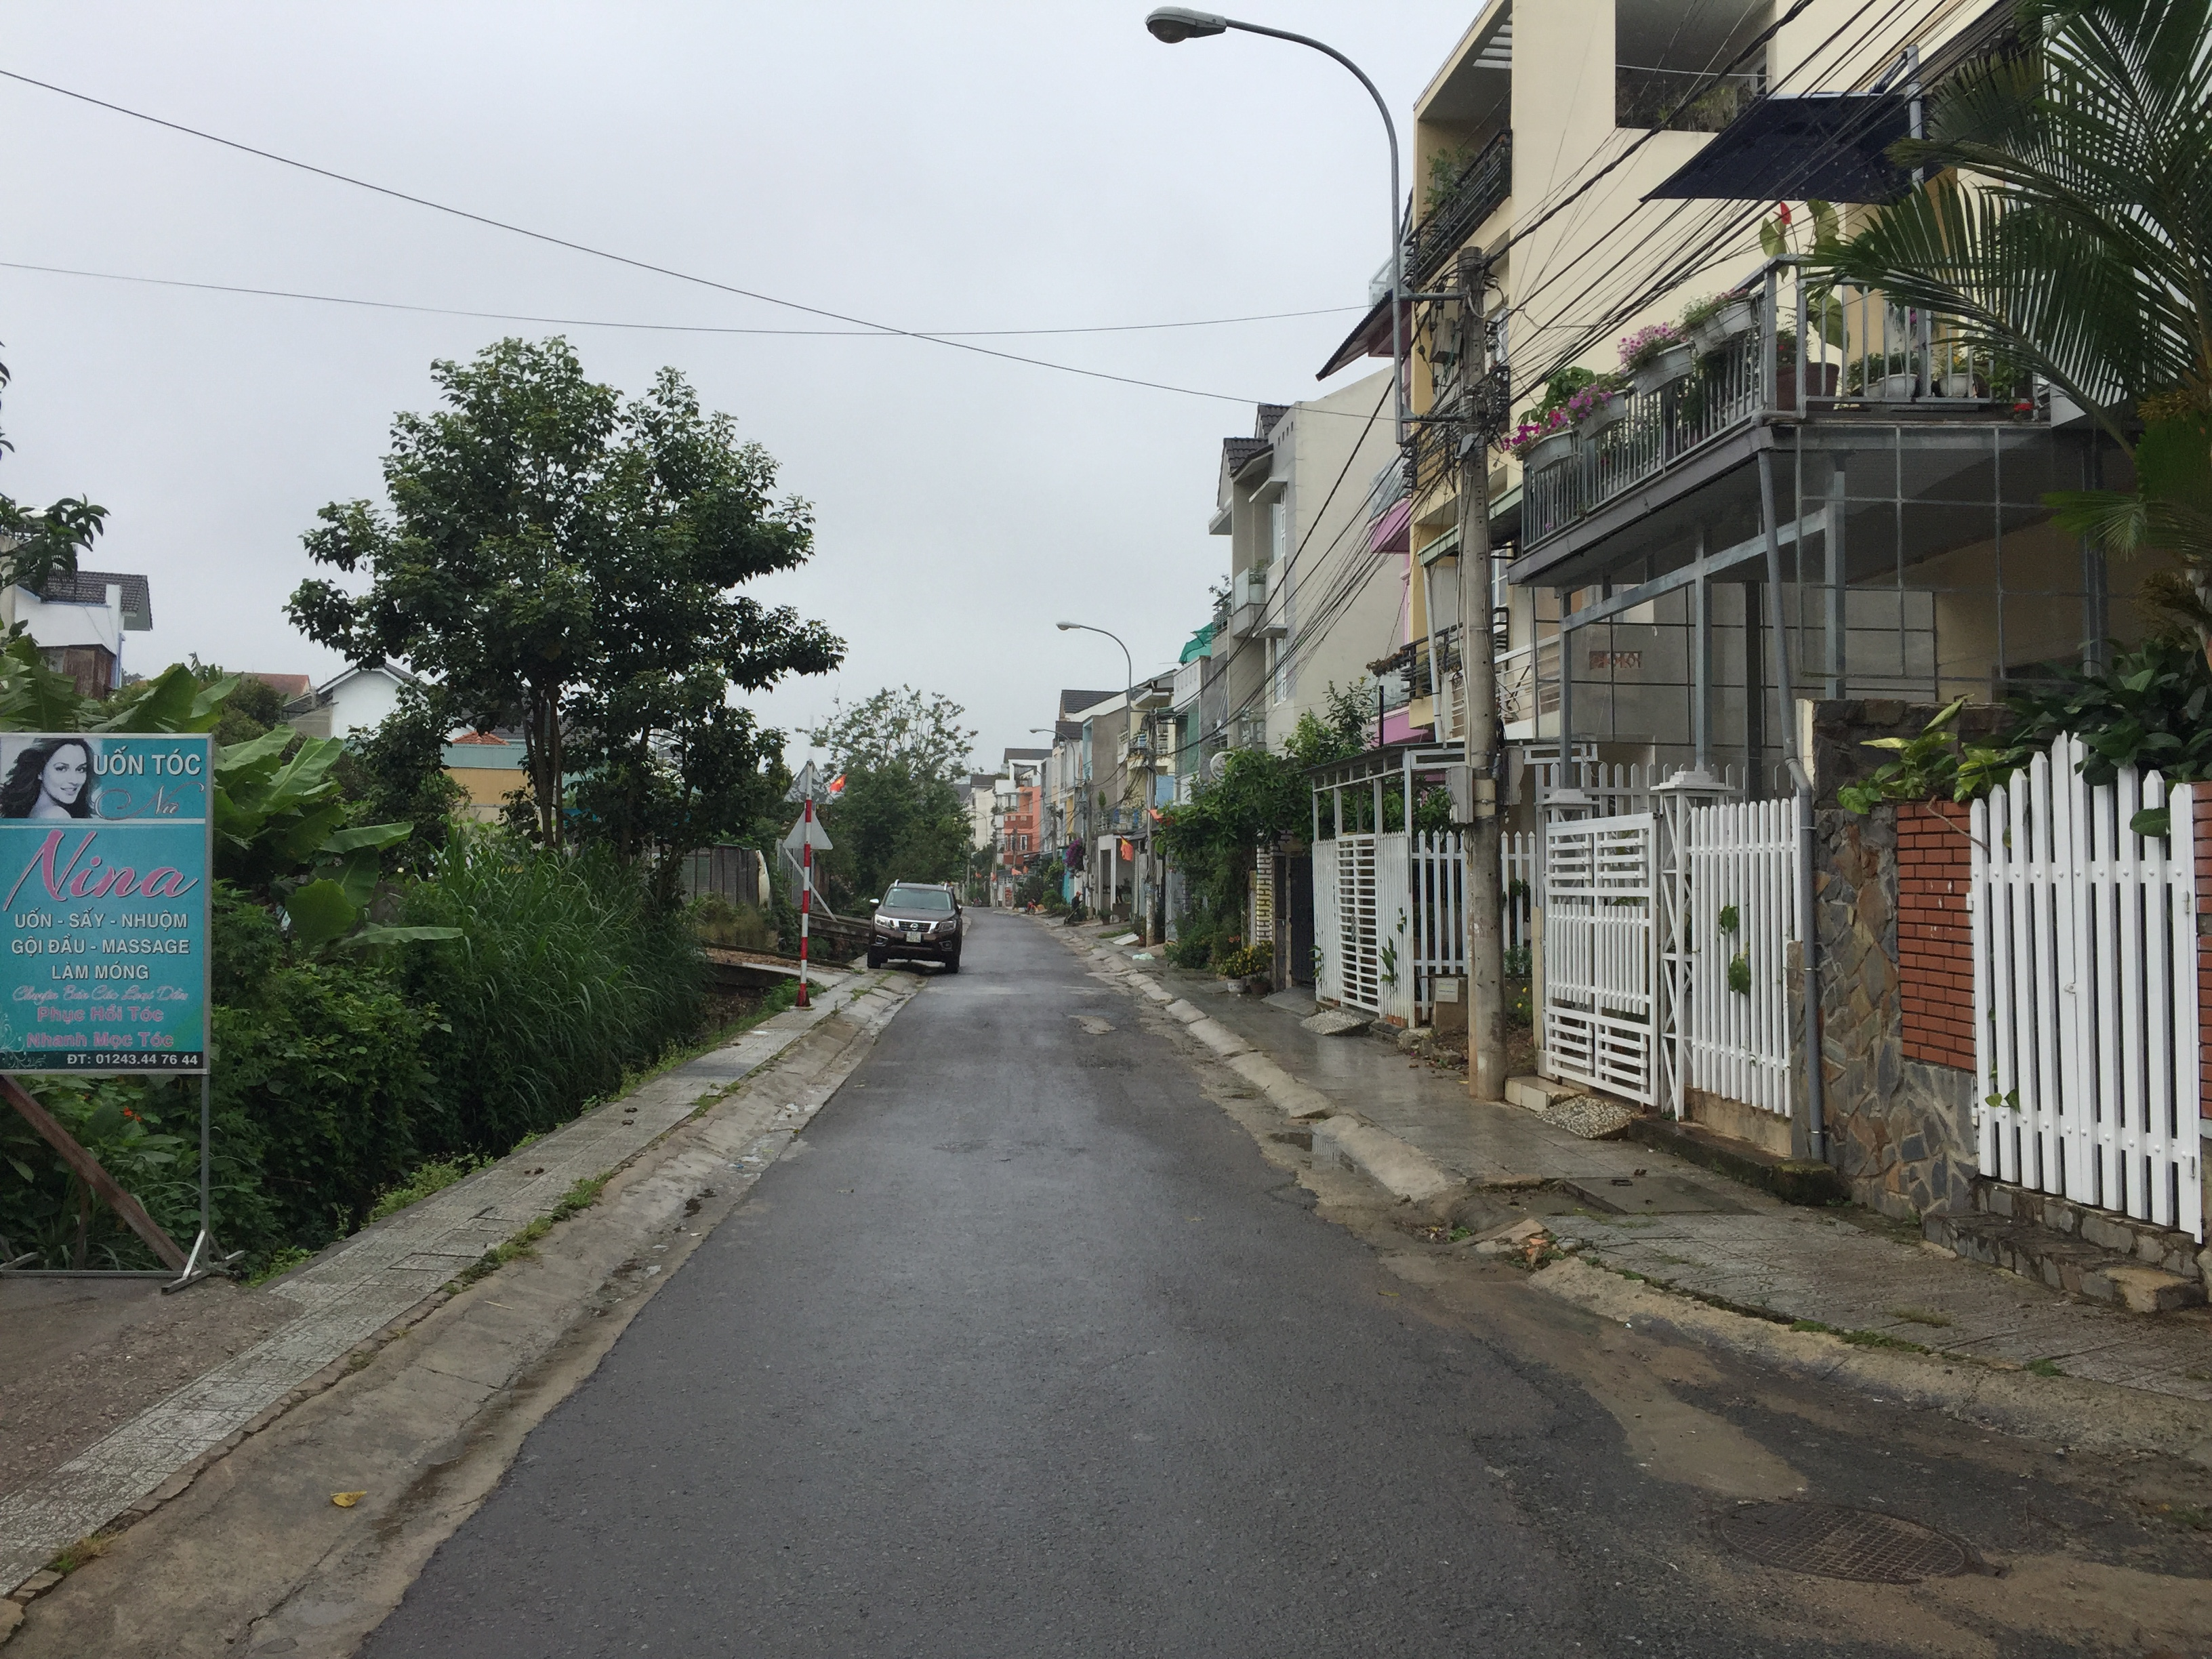hole: (1068, 1012, 1116, 1035), (1076, 1056, 1139, 1072)
